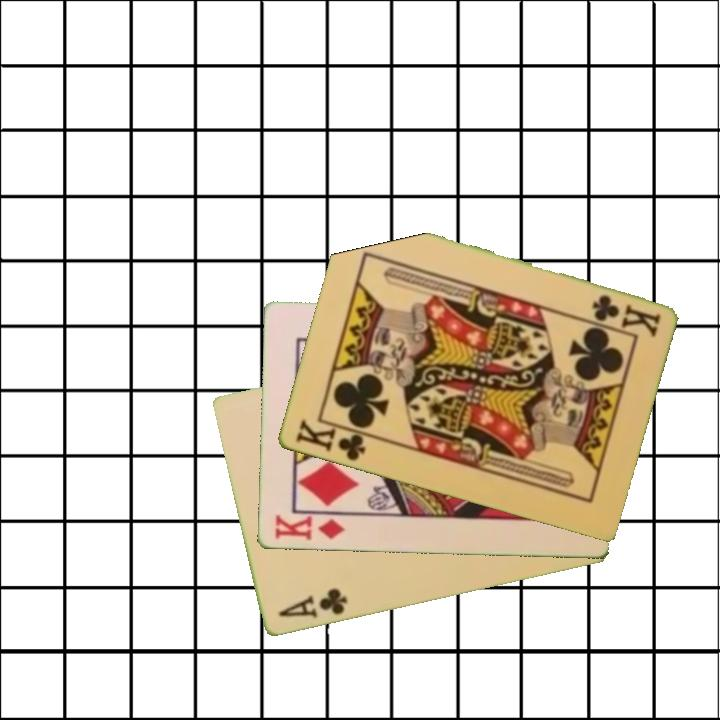Ac: (275, 585, 350, 622)
Kc: (291, 416, 375, 464), (588, 291, 663, 338)
Kd: (271, 512, 347, 544)
